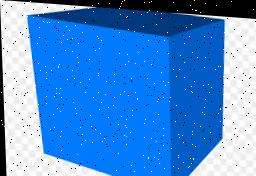cube: (28, 2, 228, 176)
